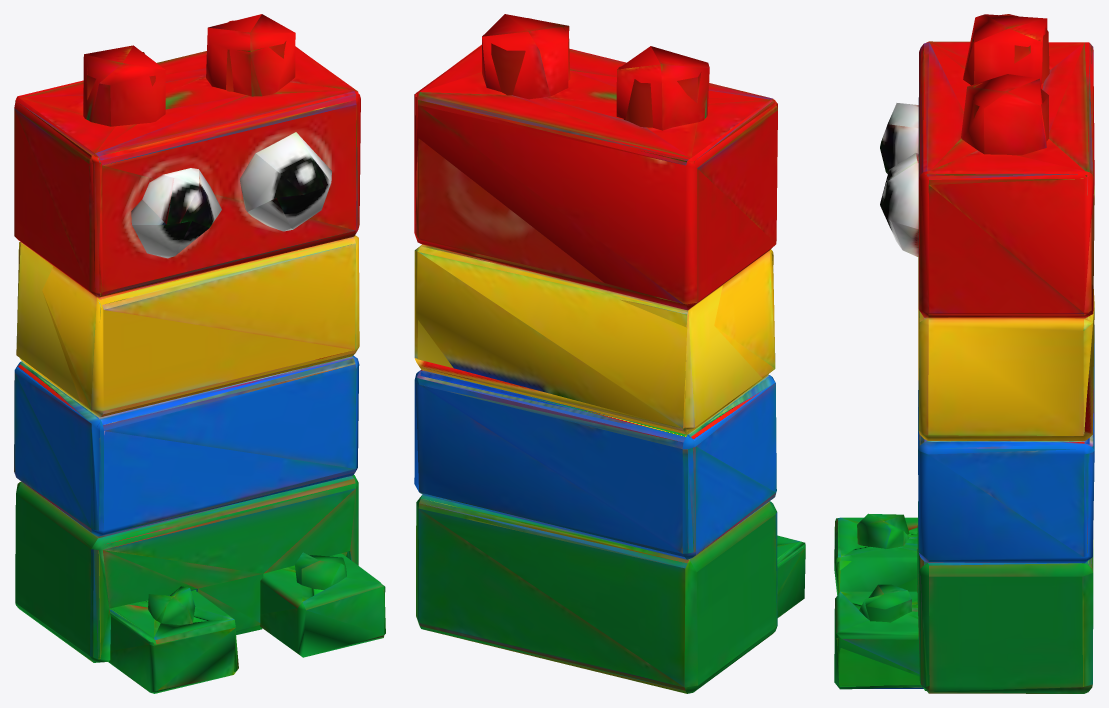
File: stamp_blocks.glb
The picture shows the model from 3 angles, left to right: view 1: azimuth 30°, elevation 25°; view 2: azimuth 150°, elevation 25°; view 3: azimuth 270°, elevation 25°; orthographic projection. The views are drawn at different scales.
Bounding box in the file's own units: 0.5098 × 1 × 0.4131.
Materials: 1 (1 with a texture image).
